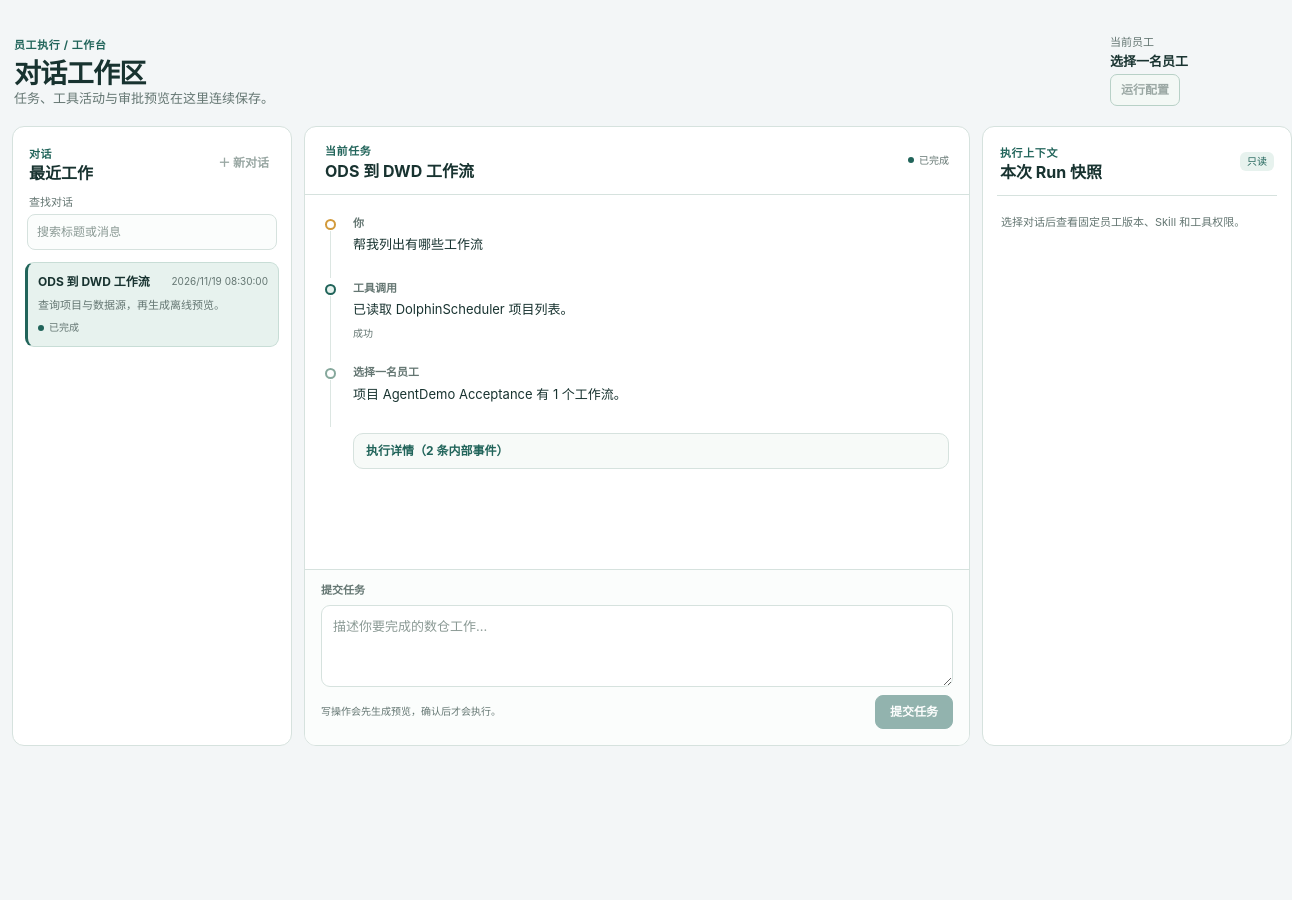
Test: collapses internal runtime events and explains them in Chinese on demand
Expected: the text "帮我列出有哪些工作流" is shown, [353,236,483,252]
Expected: the text "已读取 DolphinScheduler 项目列表。" is shown, [353,301,573,317]
Click the heading "执行详情（2 条内部事件）". click: (437, 451)
box: [366,443,508,458]
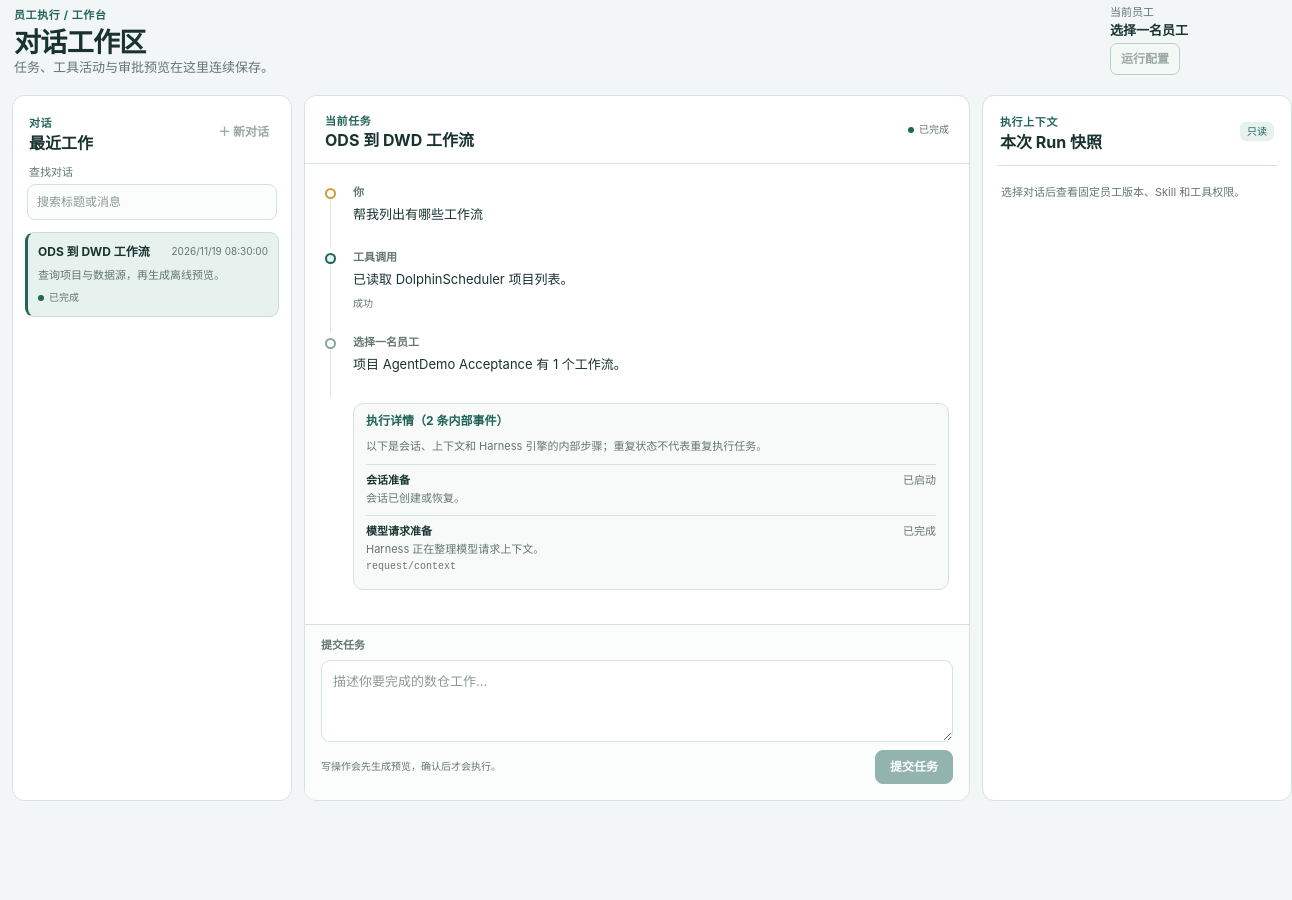
Now the text "会话已创建或恢复。" is shown, box [366,491,465,505]
Now the text "Harness 正在整理模型请求上下文。" is shown, box [366,542,544,556]
Now the text "request/context" is shown, box [366,561,456,572]
